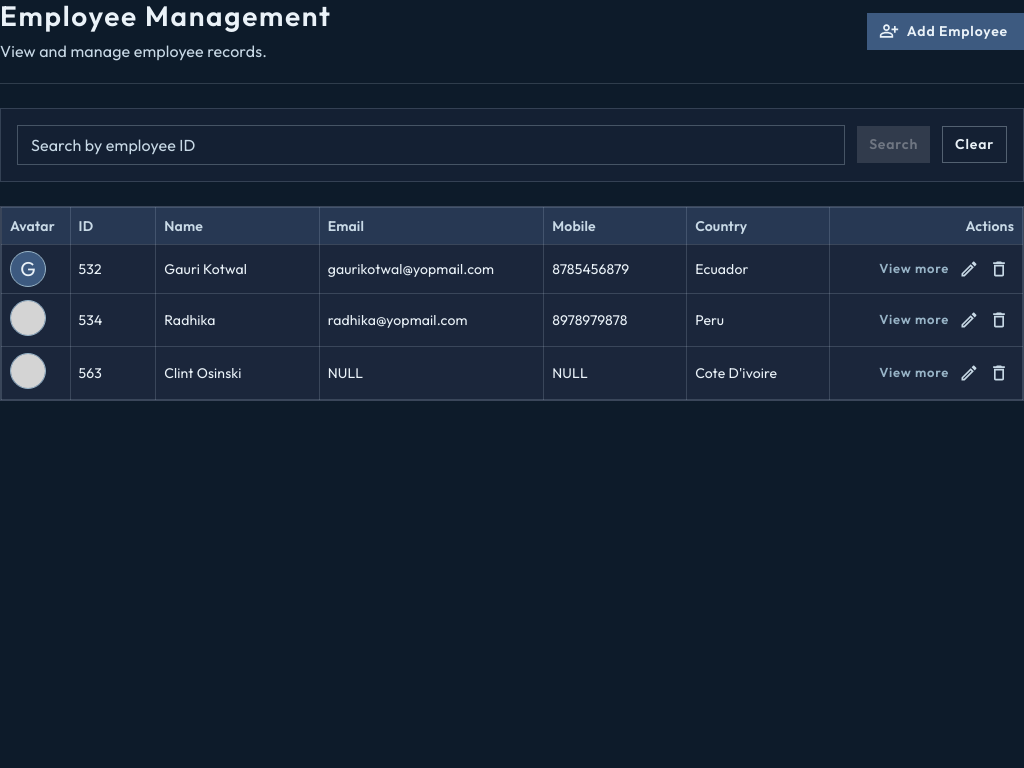
Test: EmployeeManagementContainer API errors › shows a delete error and does not report success
Click the button named "delete gauri kotwal": (999, 269) [984,254,1014,284]
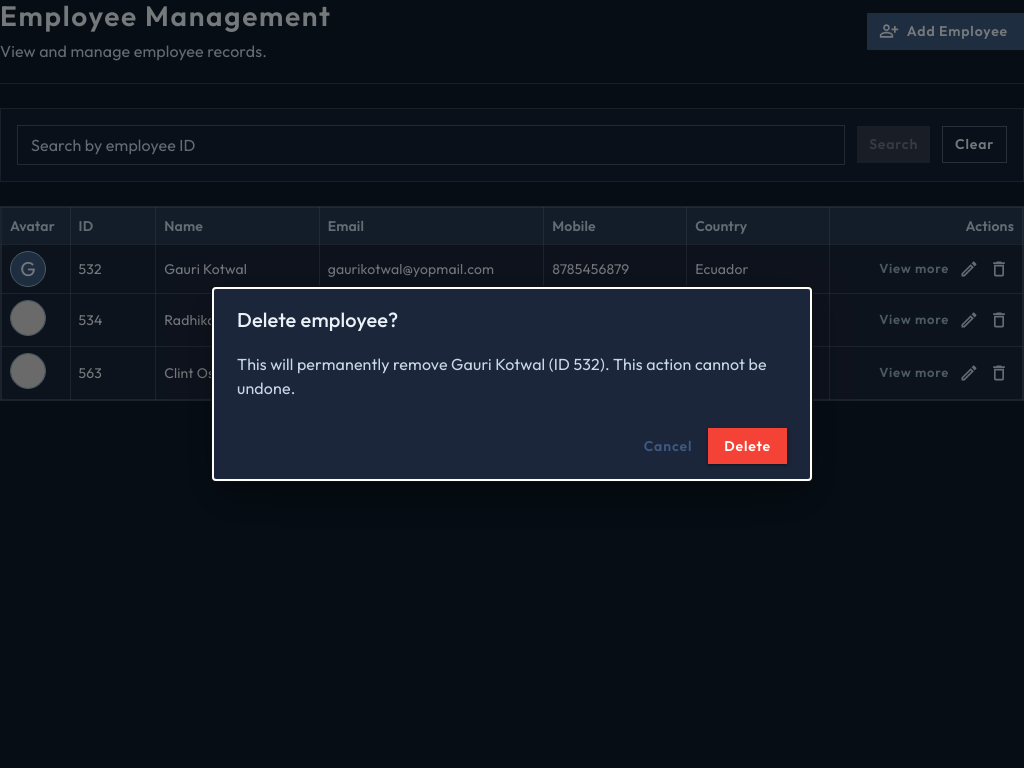
Click the button "Delete": (748, 446) [708,428,787,464]
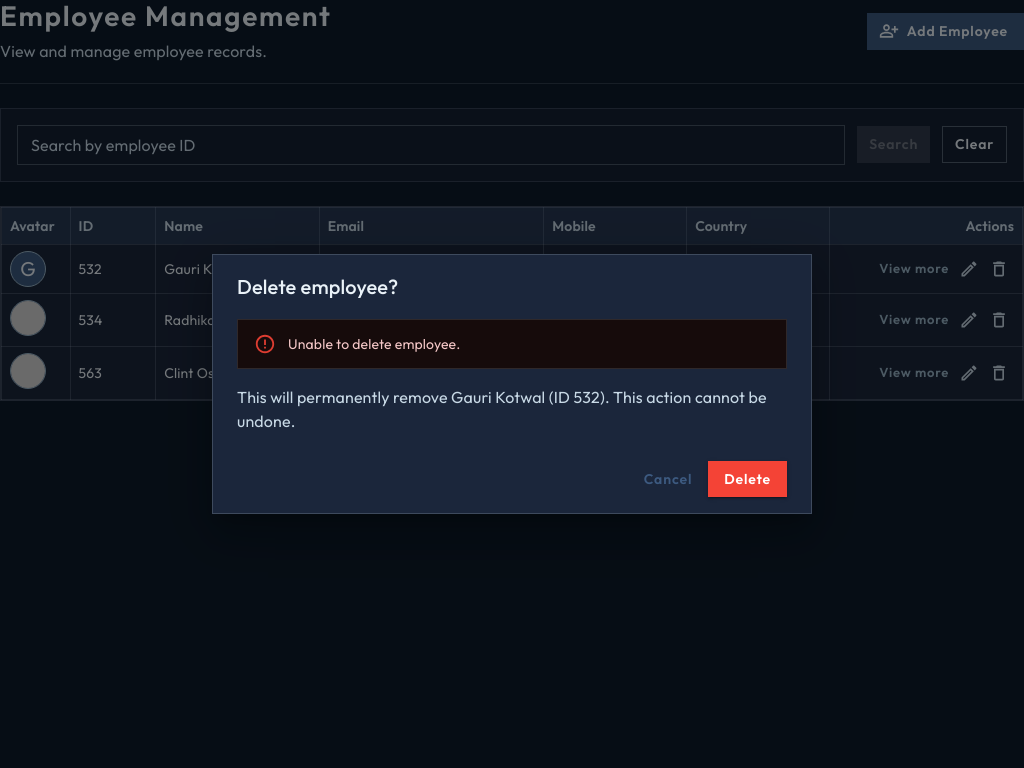
Expected: the text "Gauri Kotwal" is shown, [156,244,319,293]
Now the heading "Delete employee?" is shown, box [237,274,398,299]
Now the text "Unable to delete employee." is shown, box [288,335,460,353]
